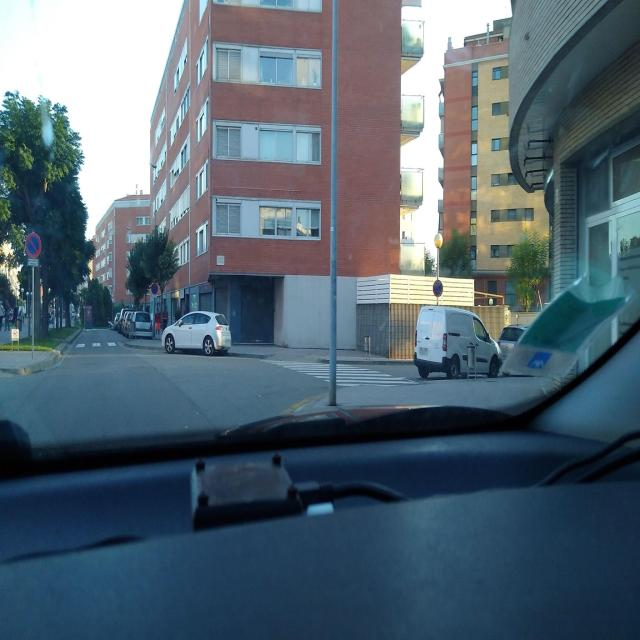forb_stopping: (25, 234, 42, 259), (432, 280, 443, 297), (151, 283, 158, 295)
